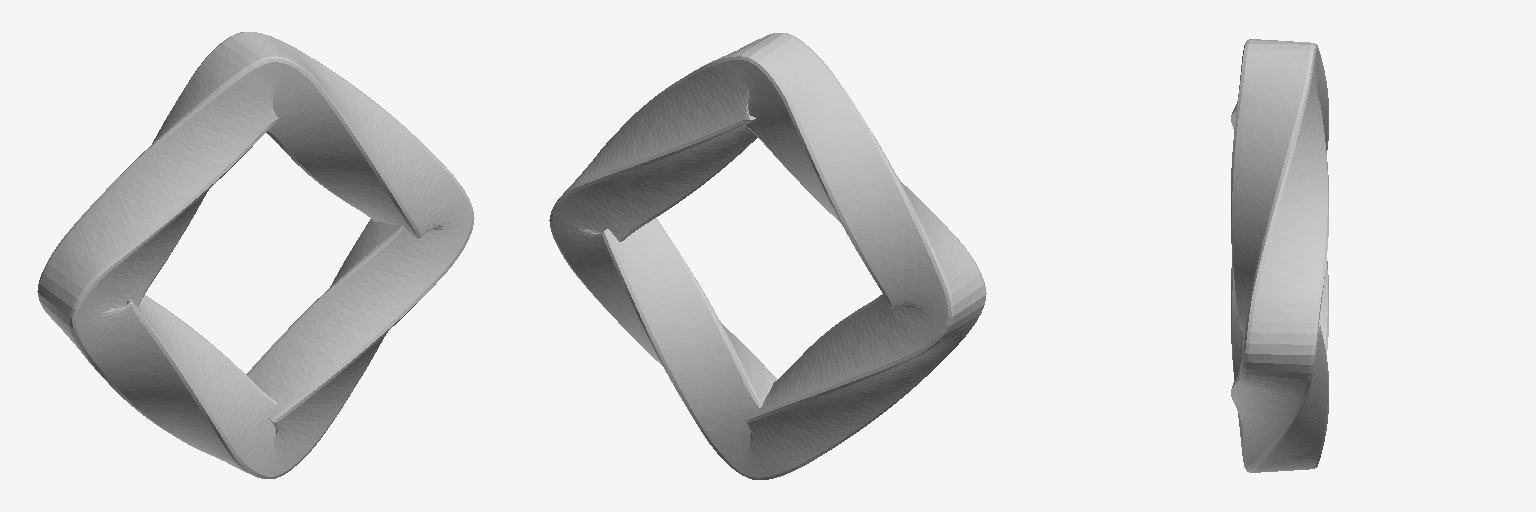
Rendered from Twister.obj.
3 renders of one model, left to right at view 1: azimuth 30°, elevation 25°; view 2: azimuth 150°, elevation 25°; view 3: azimuth 270°, elevation 25°, orthographic.
Visible parts, largest first — view 1: ABPK-Twister-3; view 2: ABPK-Twister-3; view 3: ABPK-Twister-3.
Part boxes in pixels (left/top/right/bottom): ABPK-Twister-3: left=37, top=32, right=474, bottom=478; ABPK-Twister-3: left=549, top=33, right=986, bottom=479; ABPK-Twister-3: left=1231, top=39, right=1328, bottom=472.
Bounding box in the file's own units: 105 × 105 × 22.21.